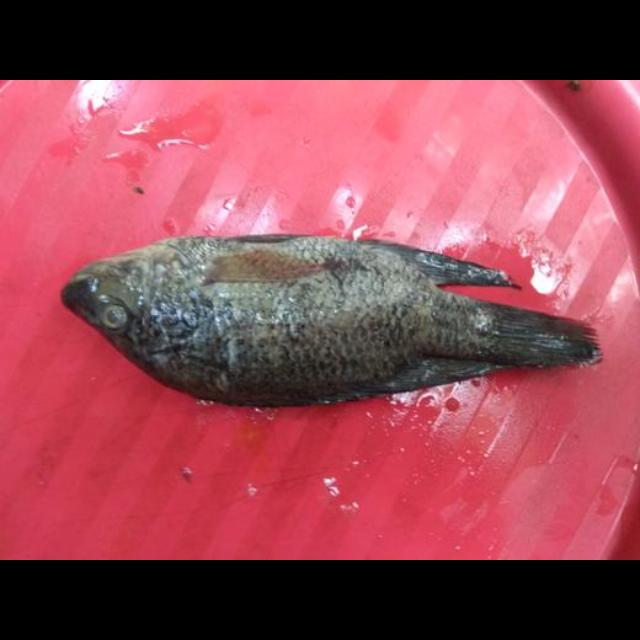Tilapia: (61, 233, 604, 407)
